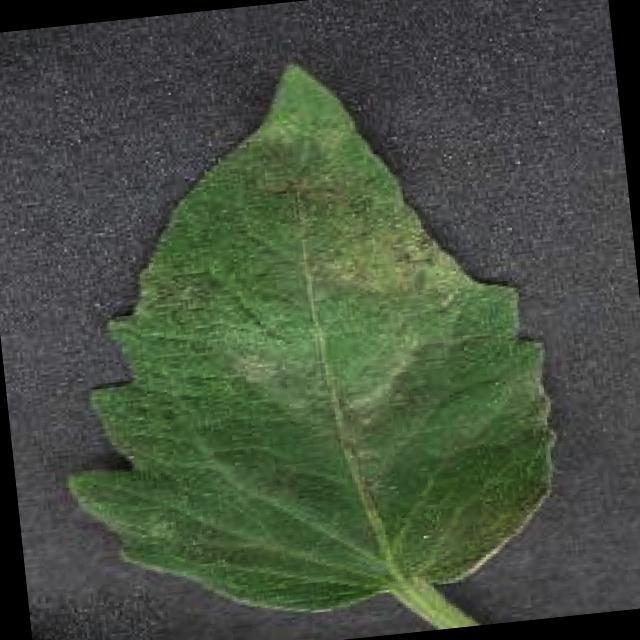Tomato late blight leaf: (23, 39, 574, 638)
